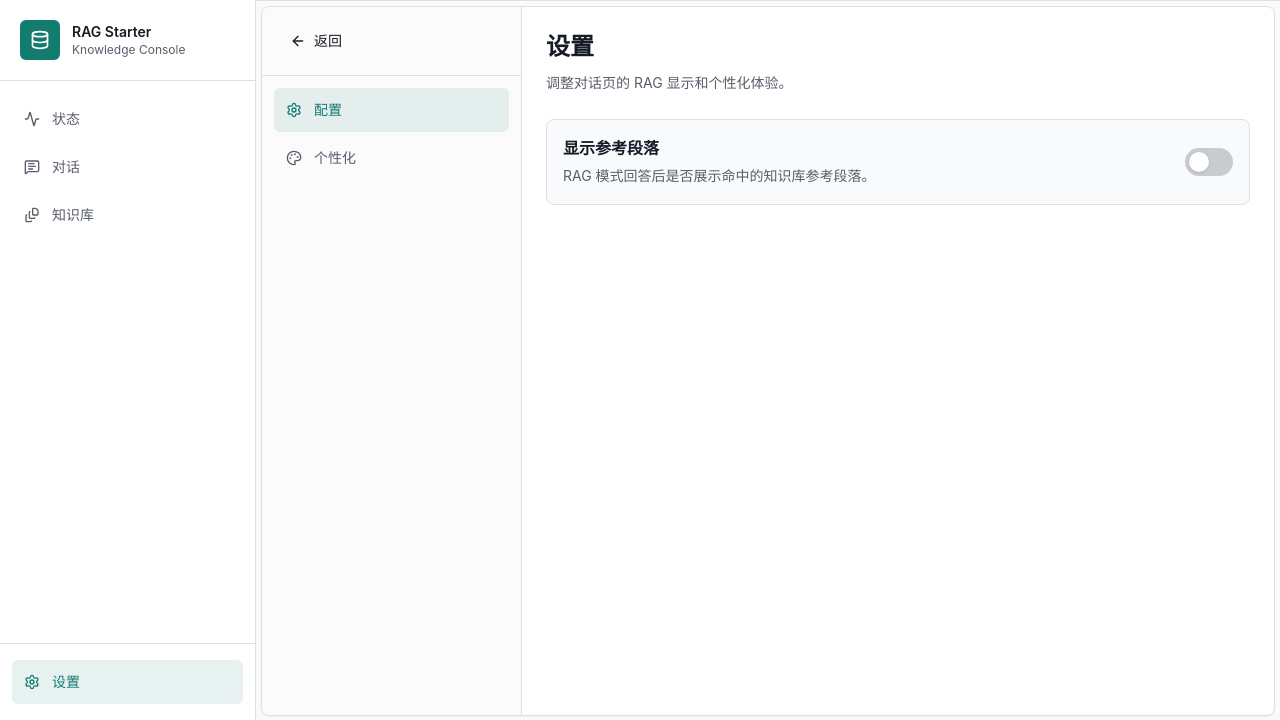
Test: App › applies updated settings after returning to chat without reload
The width and height of the screenshot is (1280, 720).
Click the switch named "切换 RAG 参考段落显示" at (1209, 162), box [1185,148,1233,176]
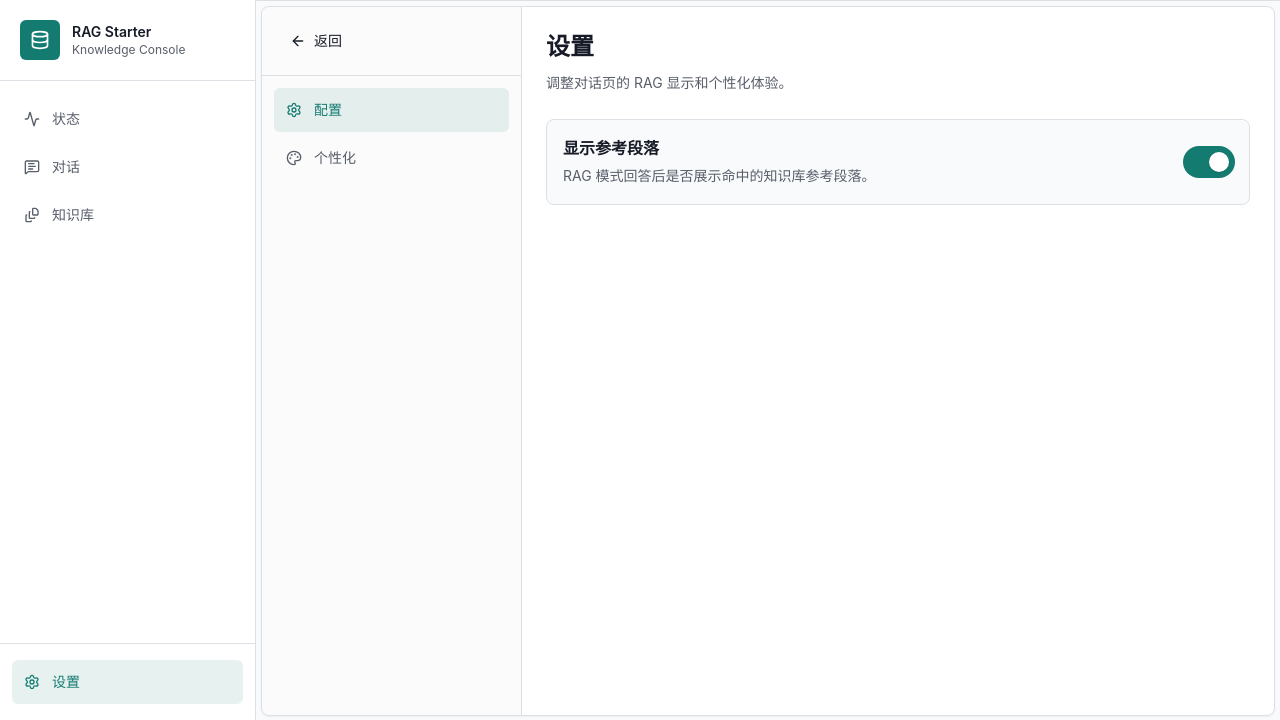
Check: the switch named "切换 RAG 参考段落显示" is checked, box [1185,148,1233,176]
Click the link "返回" at (316, 40), box [290,32,342,49]
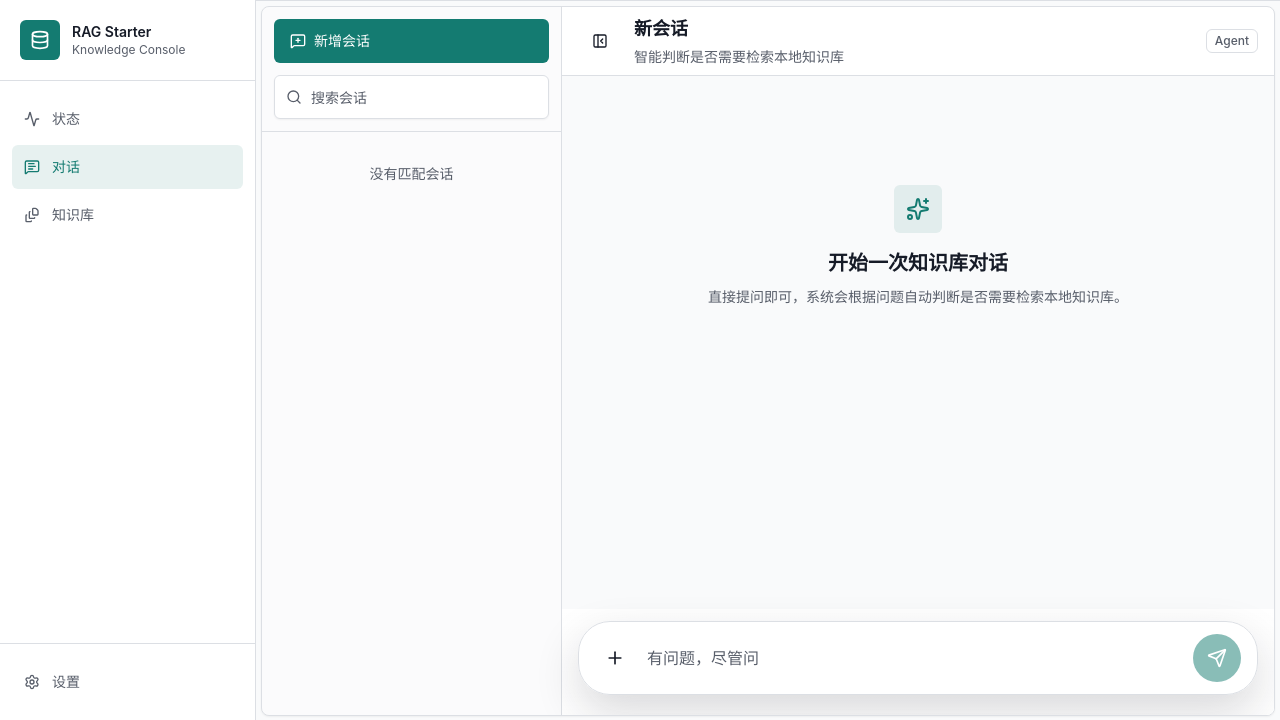
Type "测试 RAG" into the text box named "输入消息" at (914, 658), box [647,638,1181,678]
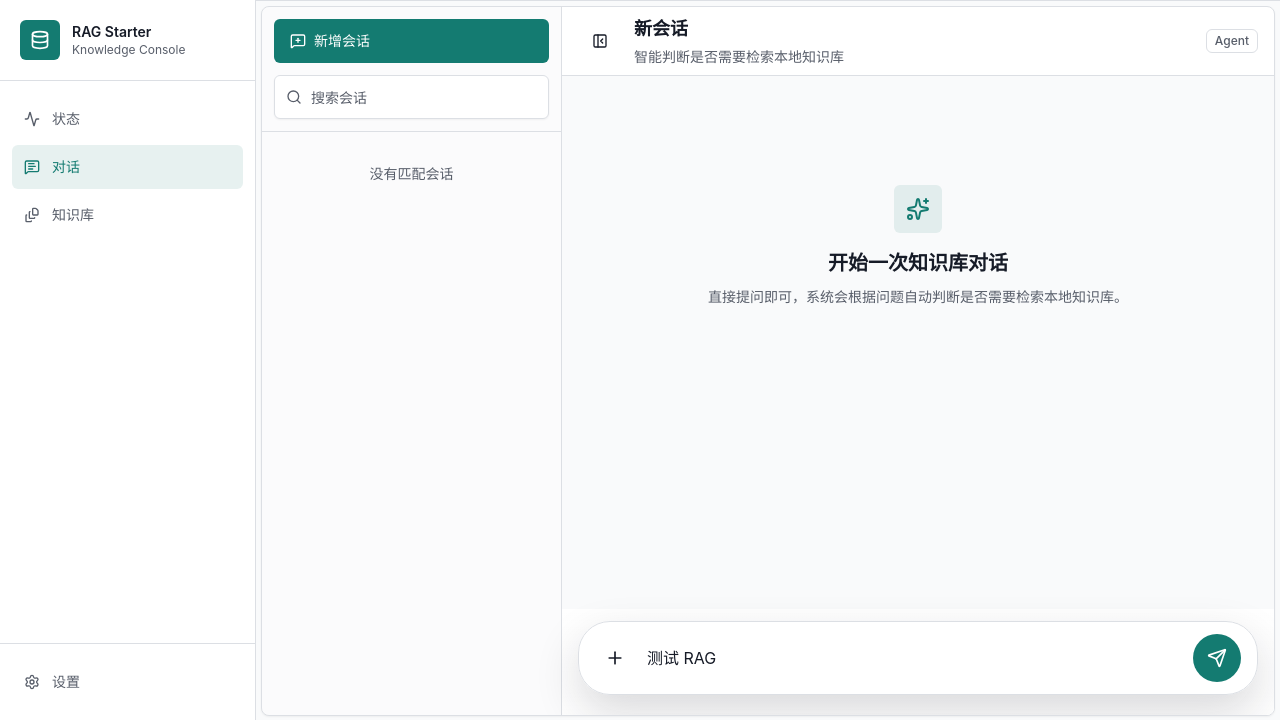
Click the button named "发送消息" at (1217, 658), box [1193,634,1241,682]
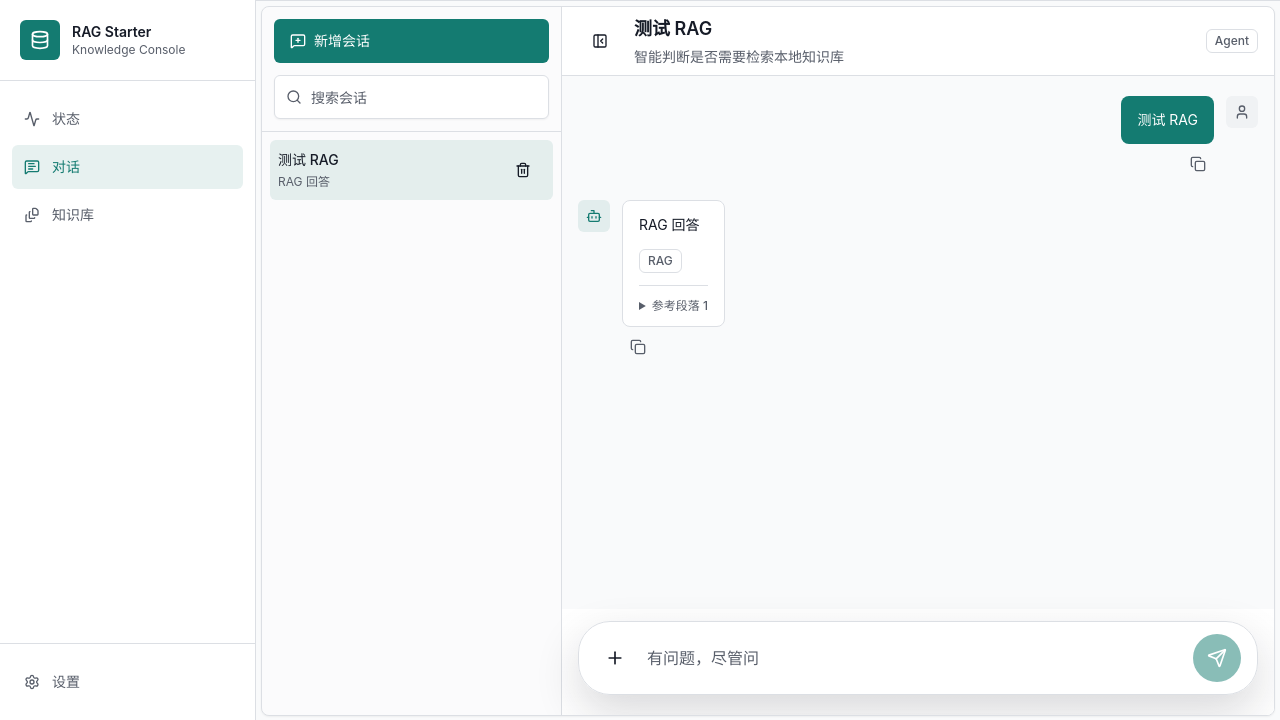
Check: the heading "参考段落 1" is shown, box [652,298,708,313]
